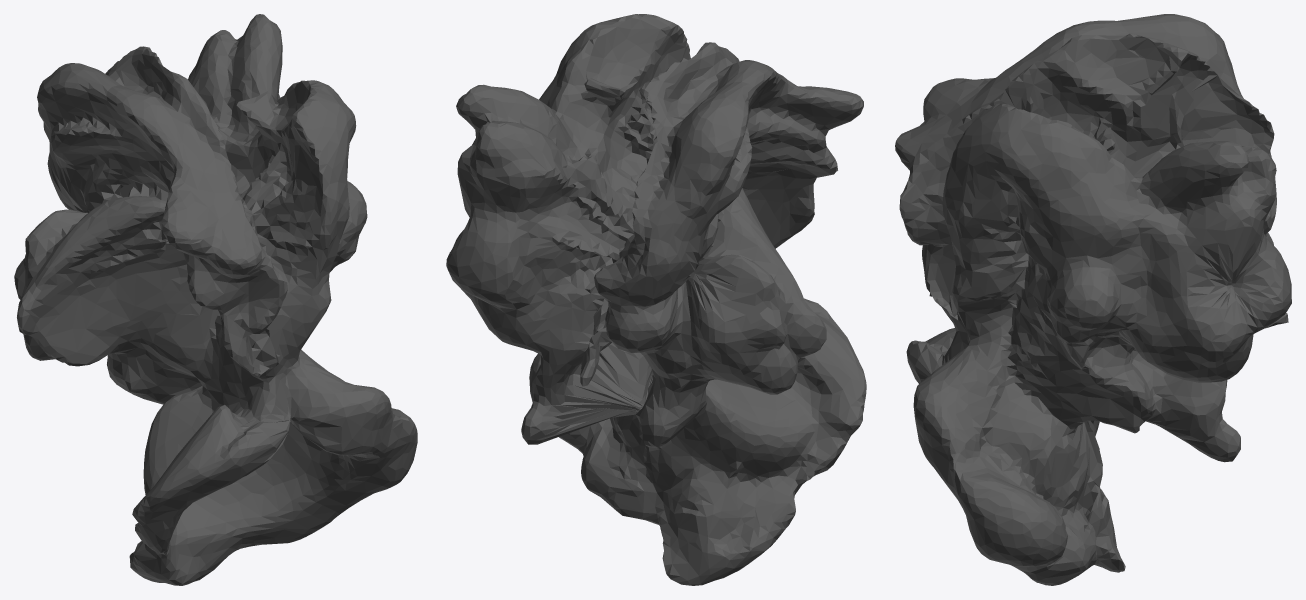
Rendered from 14_head_7.glb.
3 views of the same model, side by side, from view 1: azimuth 30°, elevation 25°; view 2: azimuth 150°, elevation 25°; view 3: azimuth 270°, elevation 25° (orthographic). The views are drawn at different scales.
Parts seen in each view (by area): view 1: Sphere; view 2: Sphere; view 3: Sphere.
Boxes of the visible parts, left/top/right/bottom form: Sphere: left=14, top=14, right=417, bottom=585; Sphere: left=446, top=14, right=866, bottom=585; Sphere: left=895, top=14, right=1291, bottom=585.
Bounding box in the file's own units: 8.21 × 12 × 8.06.
1 material, 1 textured.
